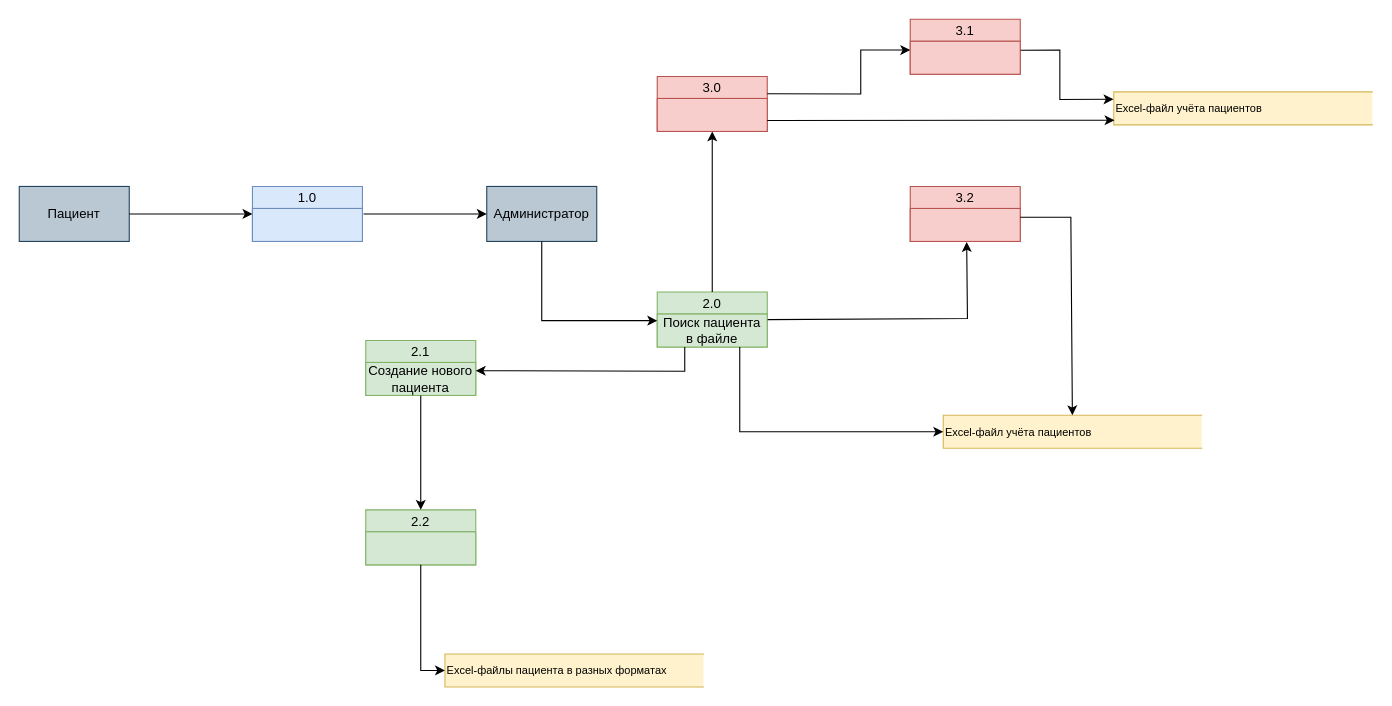
Some shapes in this 1392 by 706 pixel diagram are drawn without their labels. The shapes that lost their labels are listed below. From the top down, each one's centre as x and y in pixels, then its label:
At point (964, 57): "Создание записи на приём".
At point (711, 114): "Поиск времени у врача".
At point (306, 224): "Указывает перс. данные".
At point (964, 224): "Создание новой записи клиенту".
At point (420, 548): "Создание папки новому пациенту".
